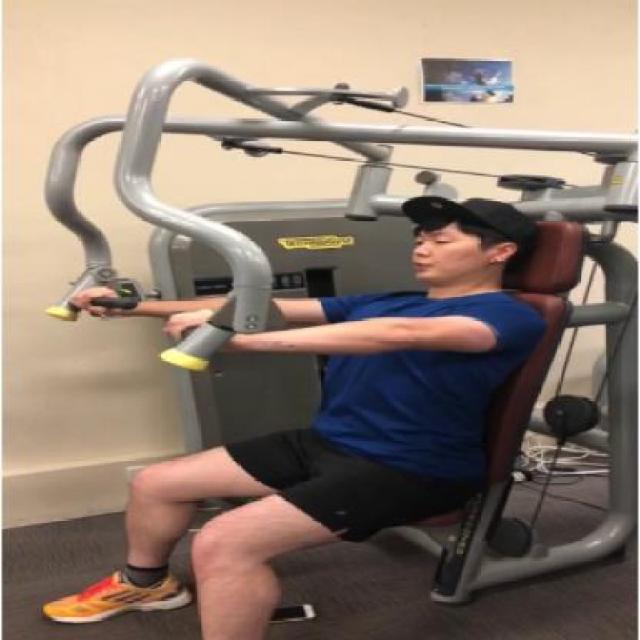Chest Press machine: (27, 47, 640, 640)
